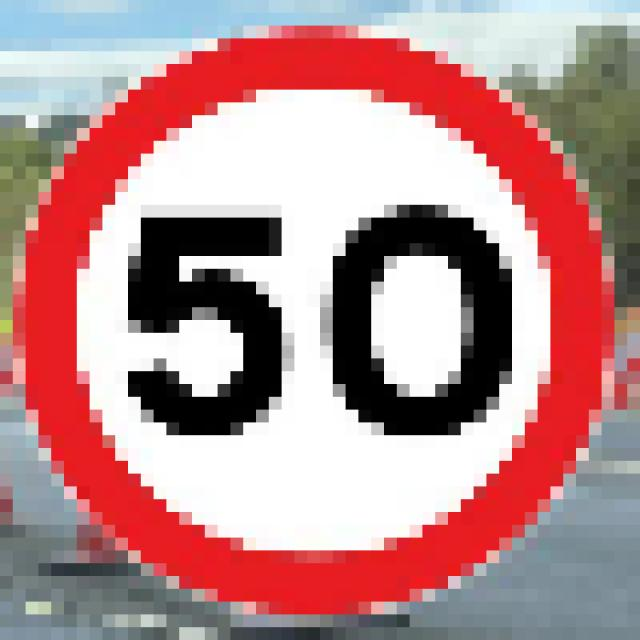Limite-50: (14, 22, 620, 623)
